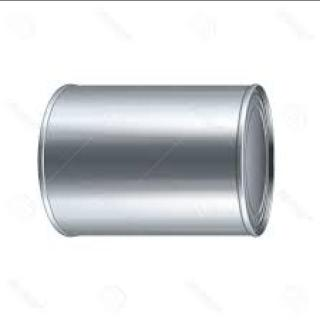Anorganik: (30, 75, 286, 247)
